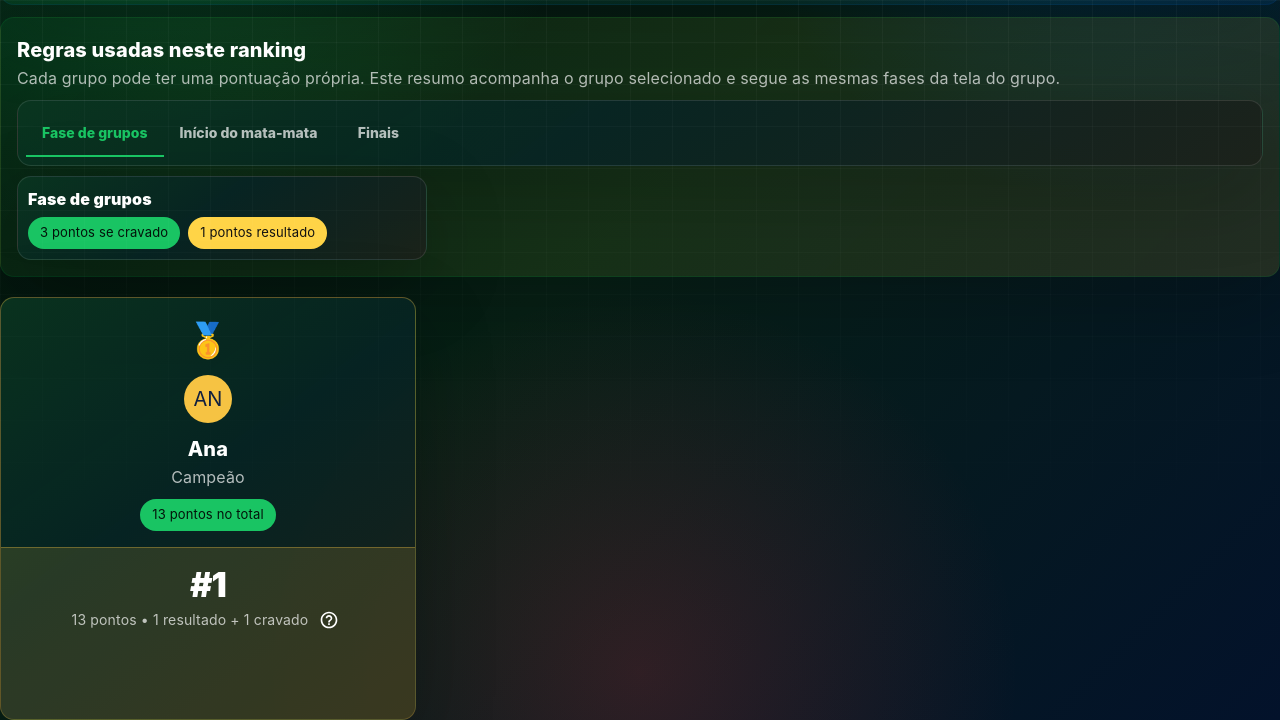
Scenario: RankingPage › mostra detalhe de pontos por fase no ranking
(page scrolled)
Click the button named "Ver detalhes dos pontos de Ana" at (329, 620), box [314, 606, 344, 636]
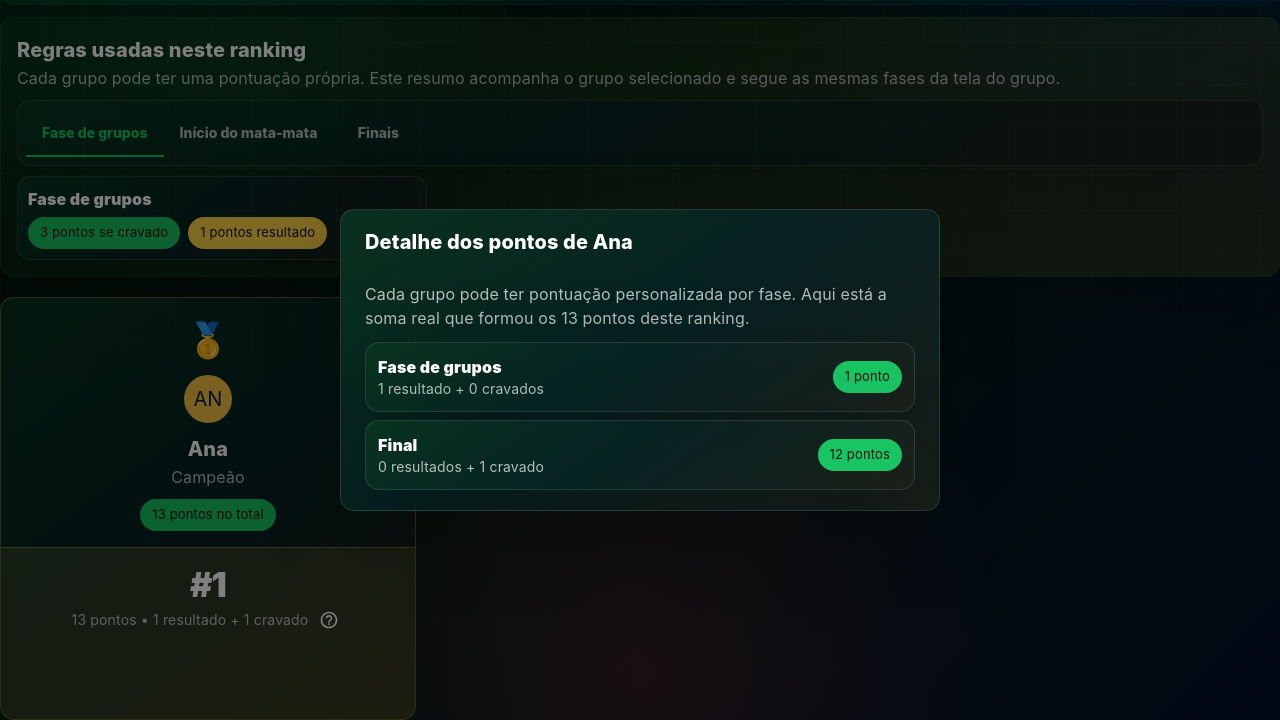
Now the heading "Detalhe dos pontos de Ana" is shown, box [365, 230, 633, 254]
Now the text "Fase de grupos" is shown, box [378, 357, 502, 377]
Now the text "Final" is shown, box [378, 435, 418, 455]
